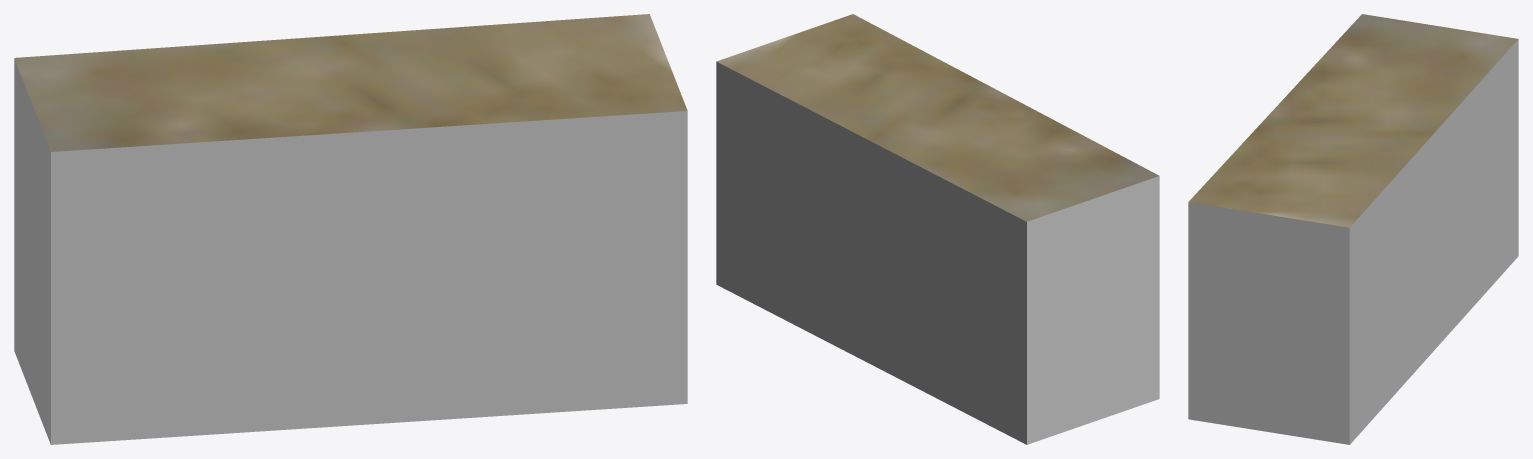
The model's file is DEBW_0010007Tx9N.gltf.
3 renders of one model, left to right at view 1: azimuth 30°, elevation 25°; view 2: azimuth 150°, elevation 25°; view 3: azimuth 270°, elevation 25°, orthographic. The views are drawn at different scales.
Parts seen in each view (by area): view 1: Z_UP; view 2: Z_UP; view 3: Z_UP.
Part boxes in pixels (bbox=[...]): Z_UP: bbox=[14, 14, 687, 444]; Z_UP: bbox=[716, 14, 1159, 444]; Z_UP: bbox=[1188, 14, 1518, 444].
Size of the model in its own units: 6.17 by 2.92 by 4.03.
2 materials, 1 textured.
